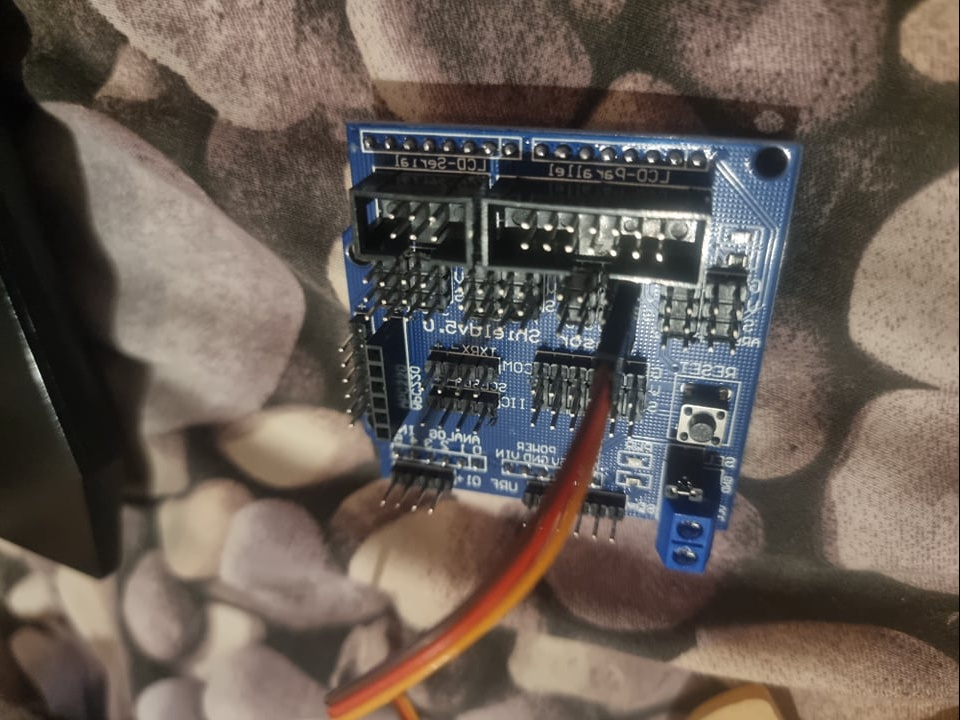5V EXPANSION: (339, 117, 809, 573)
